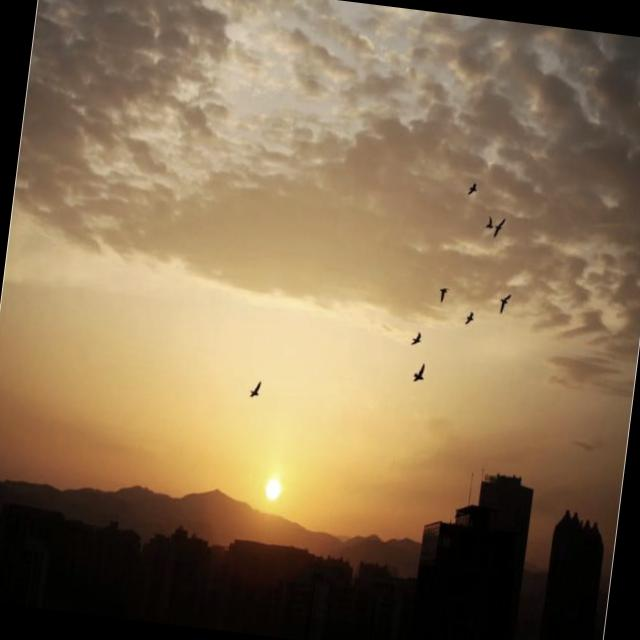bird: (491, 283, 518, 322), (431, 281, 456, 312), (408, 360, 428, 388), (246, 377, 266, 404), (462, 175, 480, 205), (493, 210, 508, 240), (462, 307, 480, 331), (406, 330, 424, 350), (479, 213, 494, 230)
